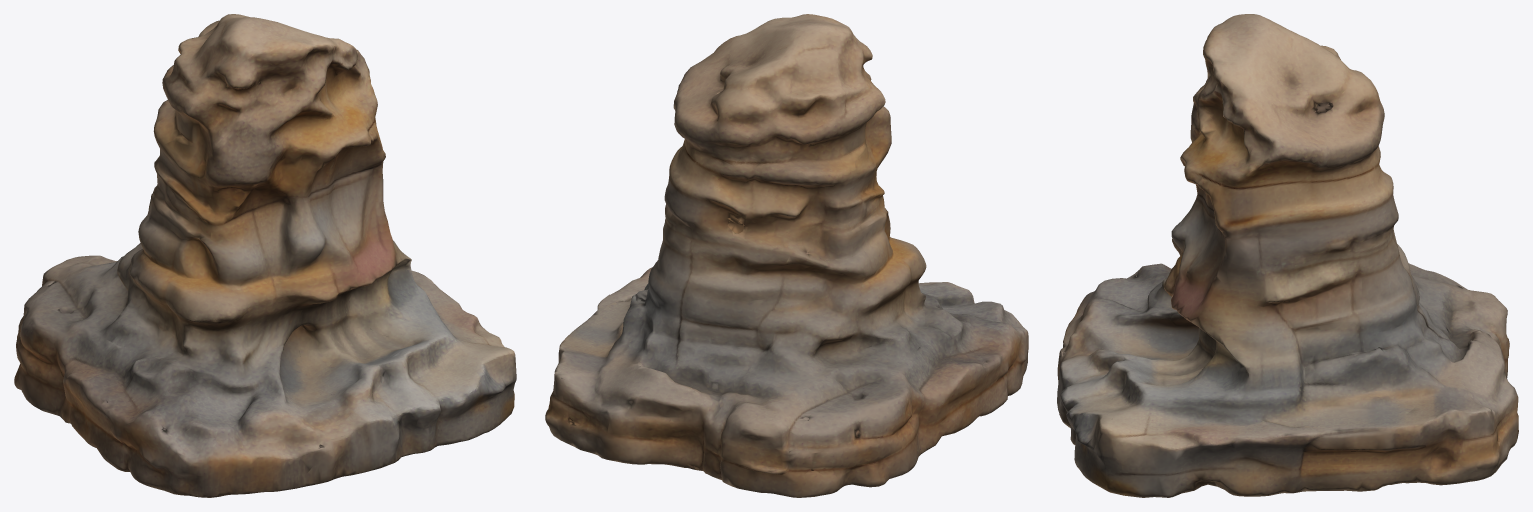
3 views of the same model, side by side, from view 1: azimuth 30°, elevation 25°; view 2: azimuth 150°, elevation 25°; view 3: azimuth 270°, elevation 25° (orthographic). The views are drawn at different scales.
Visible parts, largest first — view 1: geometry_0; view 2: geometry_0; view 3: geometry_0.
Part boxes in pixels (x1,y1,x2,y2): geometry_0: (14, 14, 516, 497); geometry_0: (545, 14, 1028, 497); geometry_0: (1057, 14, 1518, 497).
Bounding box in the file's own units: 4.53 × 4.5 × 4.88.
Materials: 1 (1 with a texture image).
